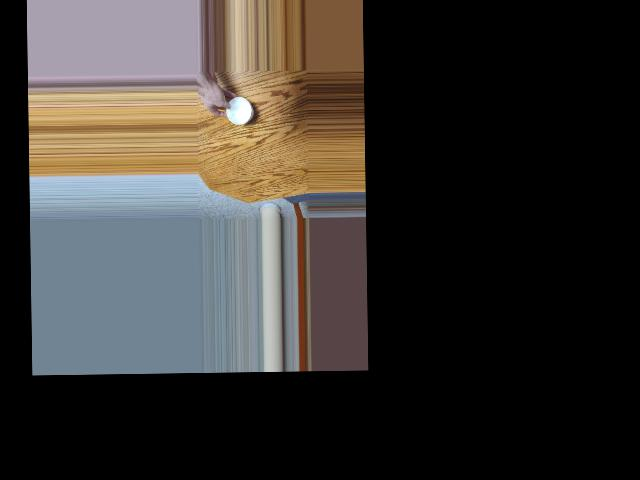cotage: (221, 95, 254, 131)
